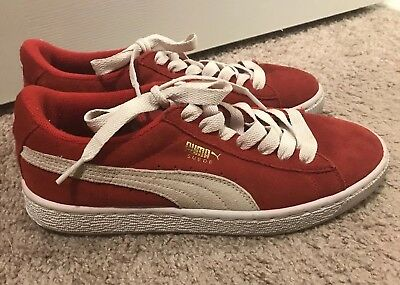Puma Suede Low Red: (9, 83, 387, 238)
